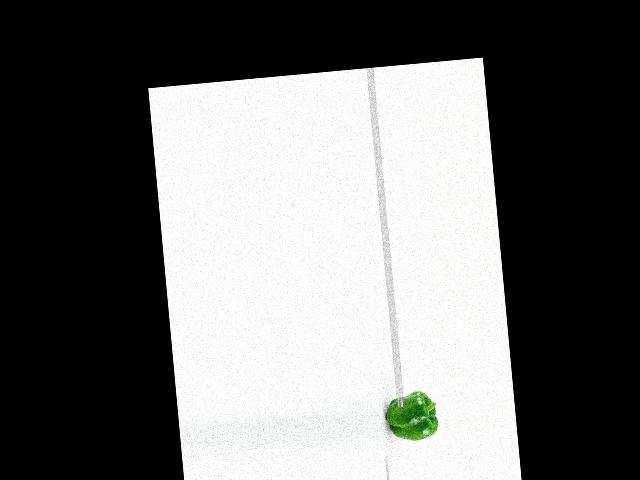bell_pepper: (381, 390, 442, 445)
